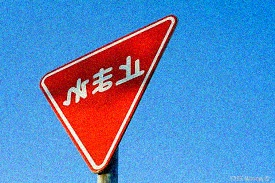Regulatory_sign_triangle: (43, 13, 180, 176)
